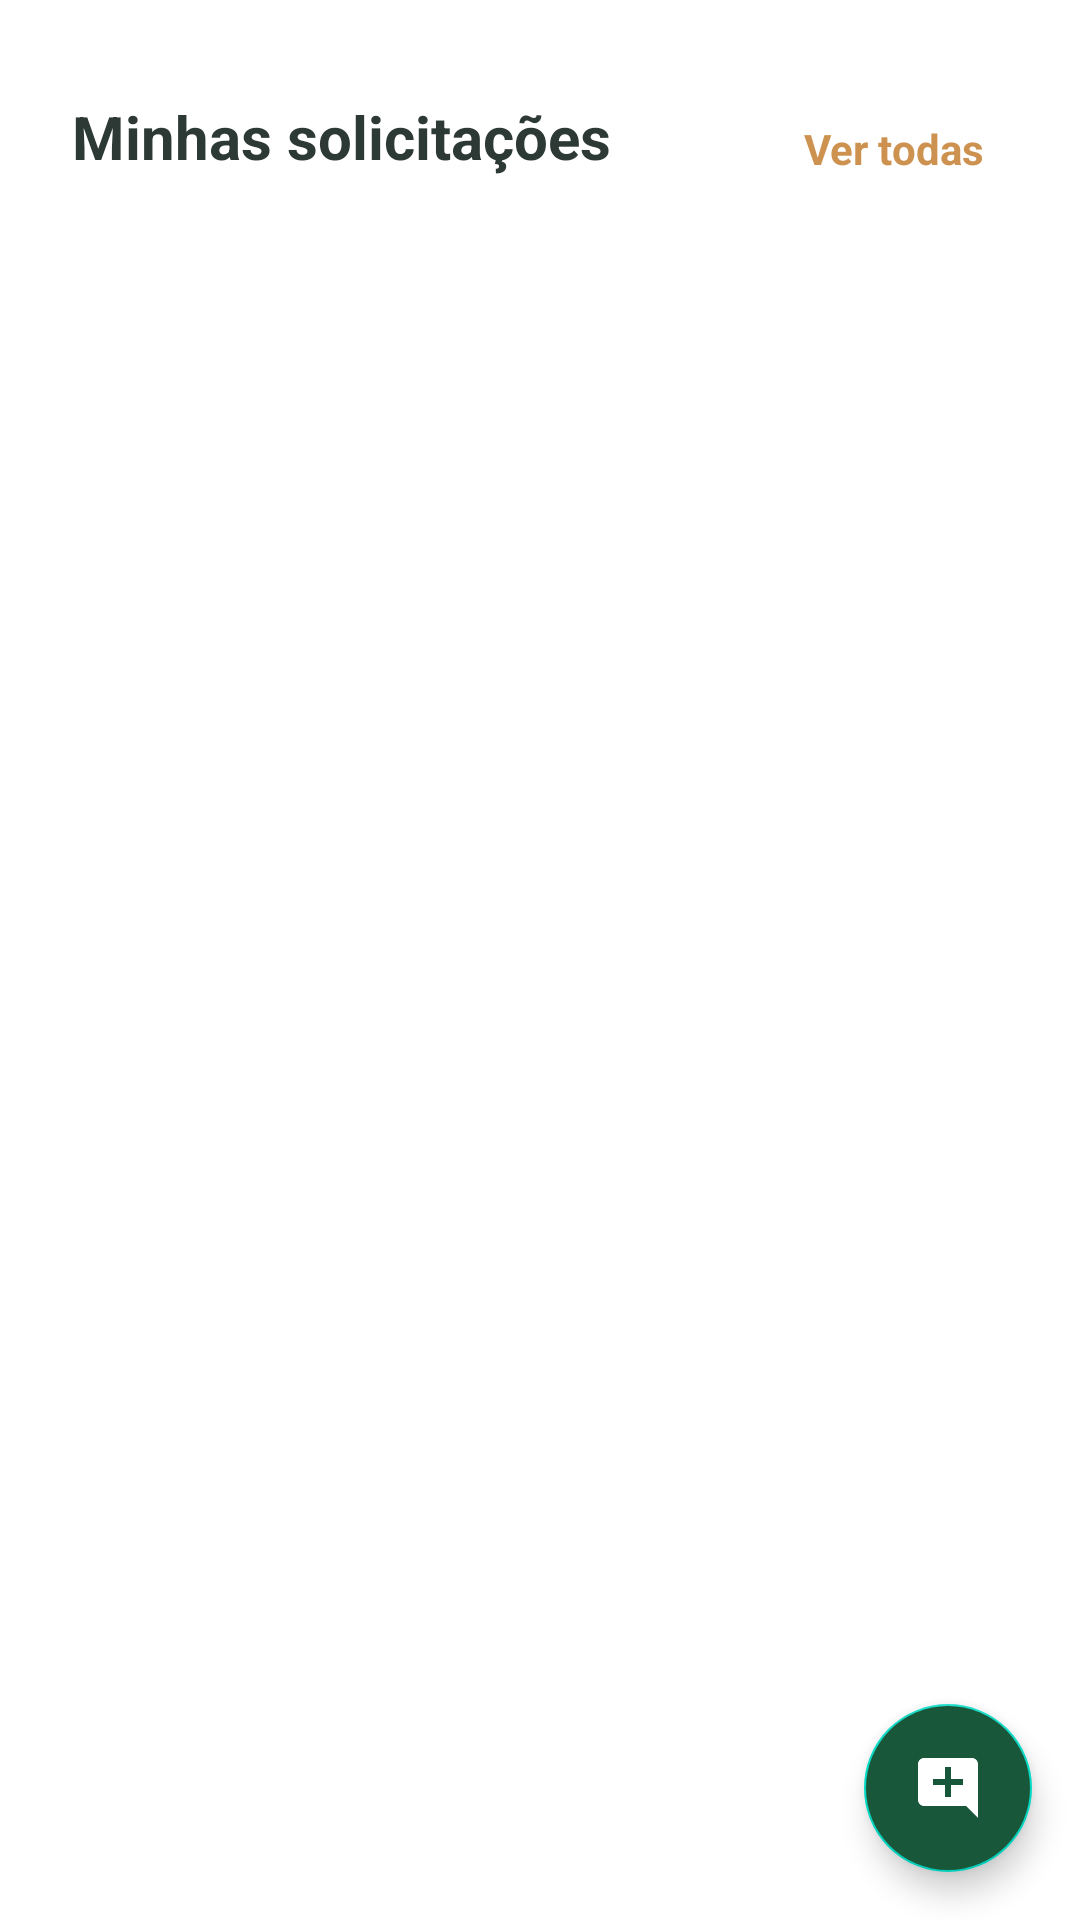

Named icons in this screenshot (1080x1920) and their centers, (x,y):
add report: (948,1788)
